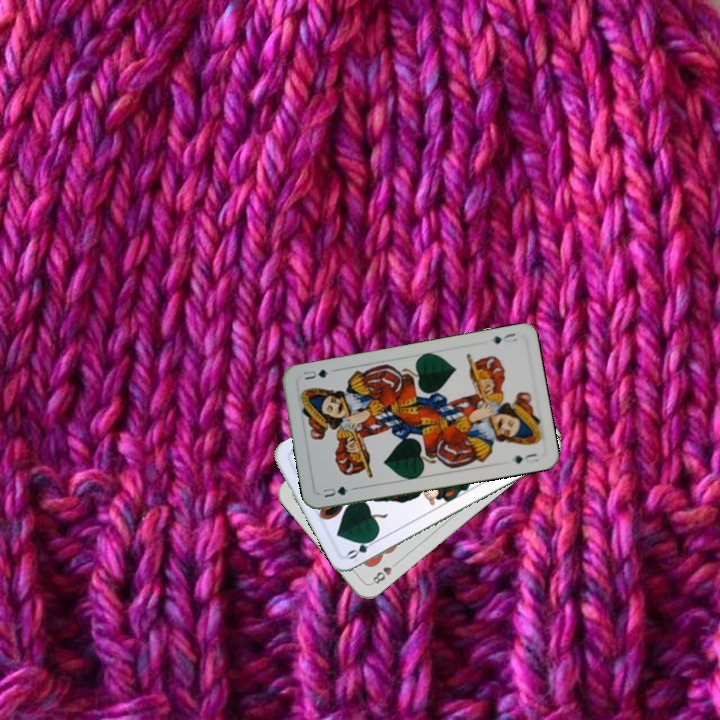GO: (343, 532, 381, 562)
GU: (319, 482, 351, 500), (490, 329, 520, 346)
H8: (367, 557, 401, 587)
